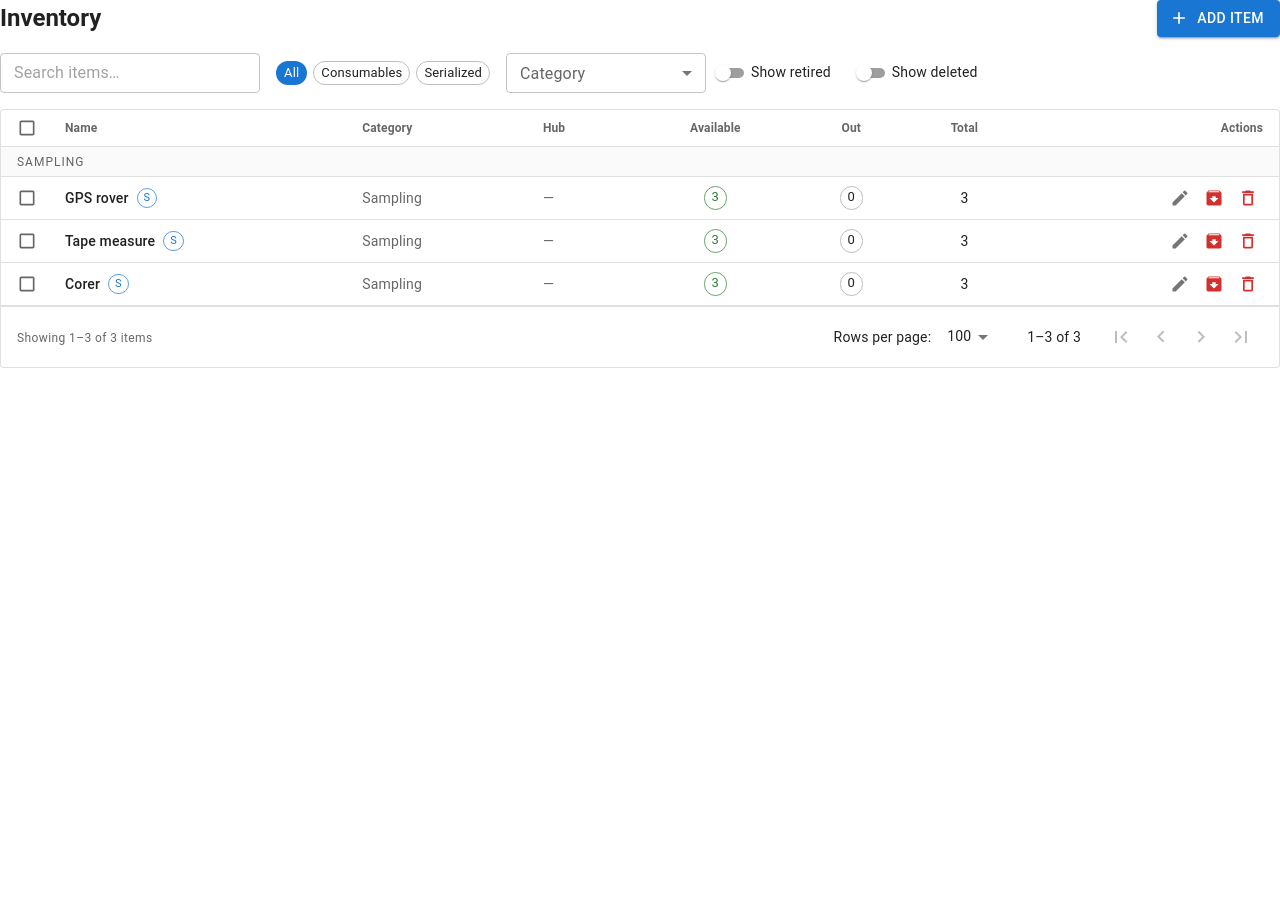
Scenario: Delete — the dialog, Undo and refusals (D-o · D-s) › states the rule, lists what goes with it and the kept history, then DELETEs on confirm
Expected: the text "GPS rover" is shown, [65, 188, 129, 208]
What coordinates should you click on to do the following:
click the button named "Delete" in the row of "GPS rover"
I would click on:
 (1248, 198)
Its box is [1233, 183, 1263, 213].
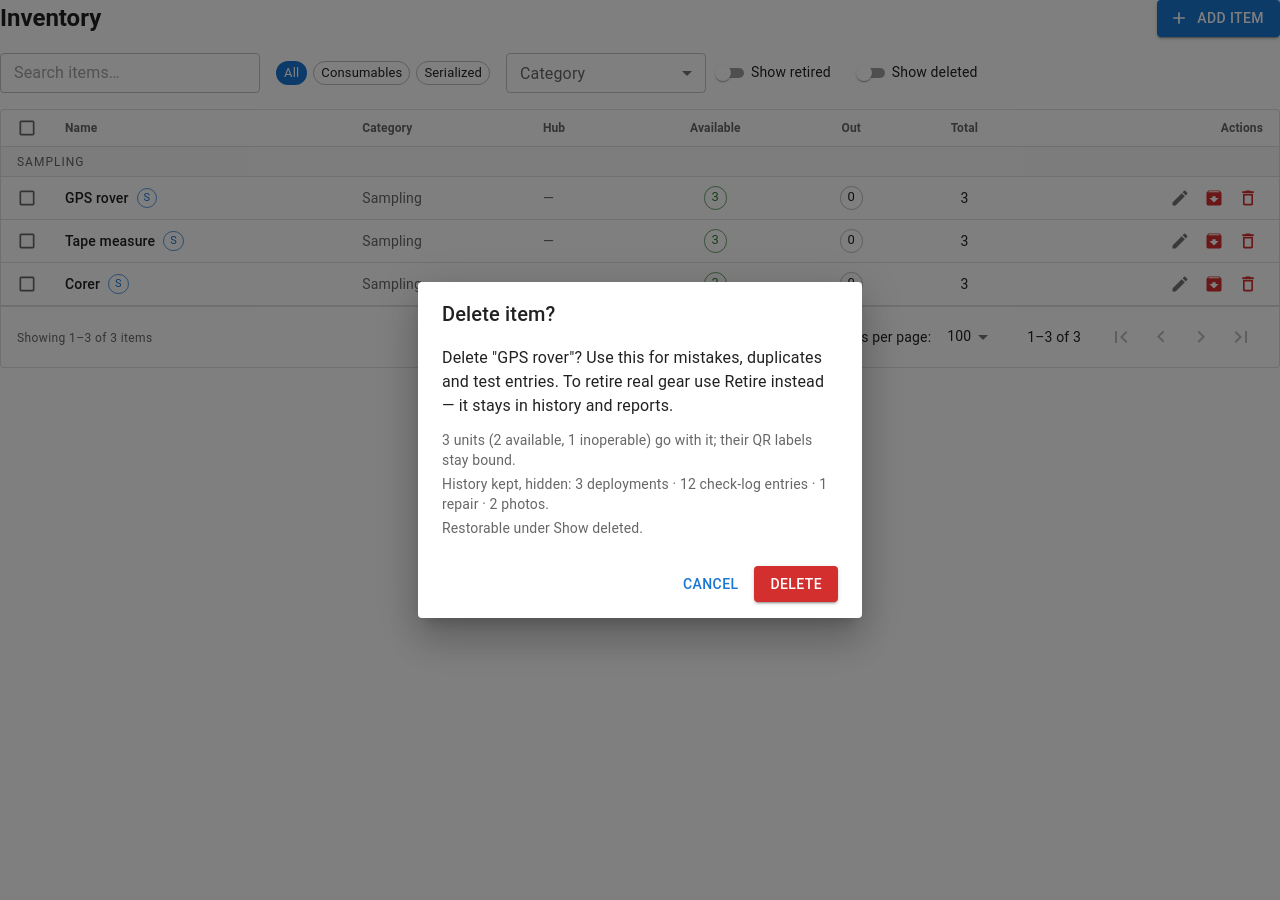
Result: the dialog "Delete item?" shows "Delete \"GPS rover\"? Use this for mistakes, duplicates and test entries. To retire real gear use Retire instead — it stays in history and reports." at [442, 348, 824, 415]
Result: the text "3 units (2 available, 1 inoperable) go with it; their QR labels stay bound." is shown at [442, 430, 838, 470]
Result: the text "History kept, hidden: 3 deployments · 12 check-log entries · 1 repair · 2 photos." is shown at [442, 476, 827, 512]
What coordinates should you click on to do the following:
click the button "Delete"
I would click on:
 (796, 584)
Its box is [754, 566, 838, 602].
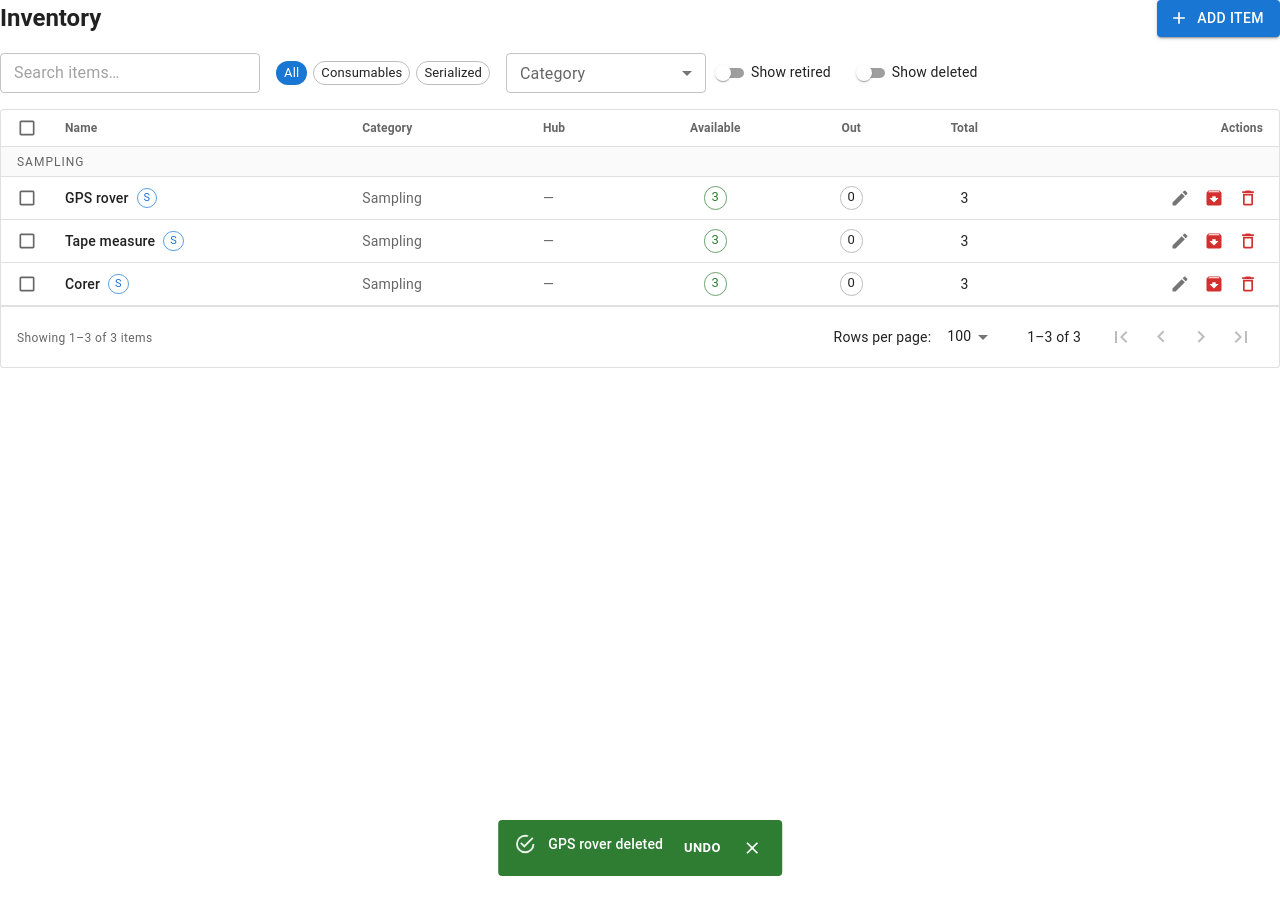
Result: the text "GPS rover deleted" is shown at [548, 836, 663, 852]
